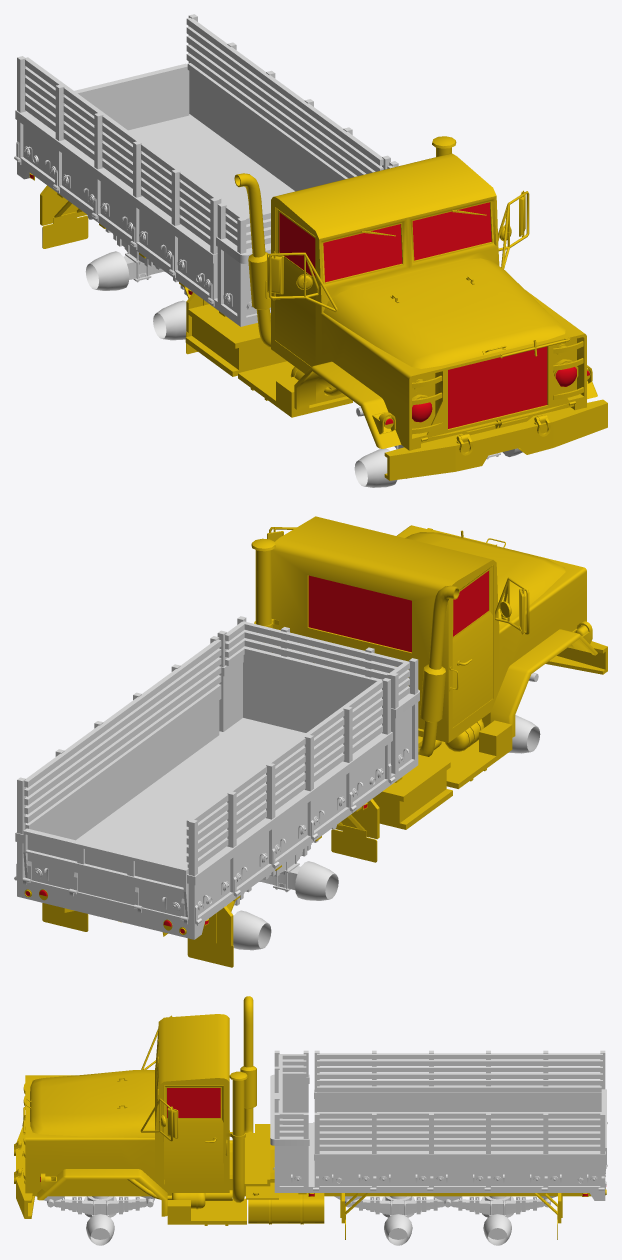
The model's file is MilitaryTruckFullTest.fbx.
3 views of the same model, one above another, from view 1: azimuth 30°, elevation 25°; view 2: azimuth 150°, elevation 25°; view 3: azimuth 270°, elevation 25° (orthographic). The views are drawn at different scales.
Visible parts, largest first — view 1: TruckVoorkant, Achterbak, TruckOnderkant, Veringen, Achterkantklep; view 2: Achterbak, TruckVoorkant, TruckOnderkant, Achterkantklep, Veringen; view 3: Achterbak, TruckVoorkant, TruckOnderkant, Veringen.
Boxes of the visible parts, x1,y1,x2,y2 form: TruckVoorkant: [234, 136, 607, 480]; Achterbak: [14, 14, 398, 326]; TruckOnderkant: [29, 173, 352, 417]; Veringen: [85, 215, 522, 487]; Achterkantklep: [26, 63, 189, 130]; Achterbak: [14, 616, 419, 939]; TruckVoorkant: [251, 516, 607, 756]; TruckOnderkant: [24, 719, 512, 967]; Achterkantklep: [23, 828, 188, 920]; Veringen: [226, 672, 540, 950]; Achterbak: [270, 1050, 606, 1200]; TruckVoorkant: [14, 996, 256, 1218]; TruckOnderkant: [32, 1124, 606, 1239]; Veringen: [36, 1196, 556, 1245].
Bounding box in the file's own units: 109 × 99.73 × 293.
